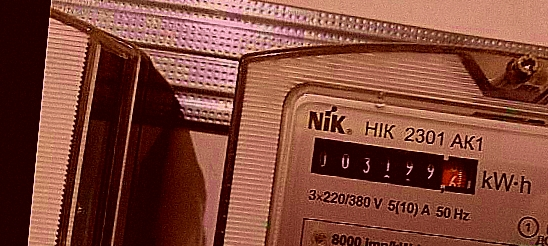0: (314, 147, 328, 169), (337, 149, 351, 170)
1: (381, 153, 393, 173)
3: (359, 154, 372, 174)
6: (447, 171, 459, 188)
9: (402, 156, 415, 177), (423, 160, 435, 180)
screen: (302, 132, 488, 203)
